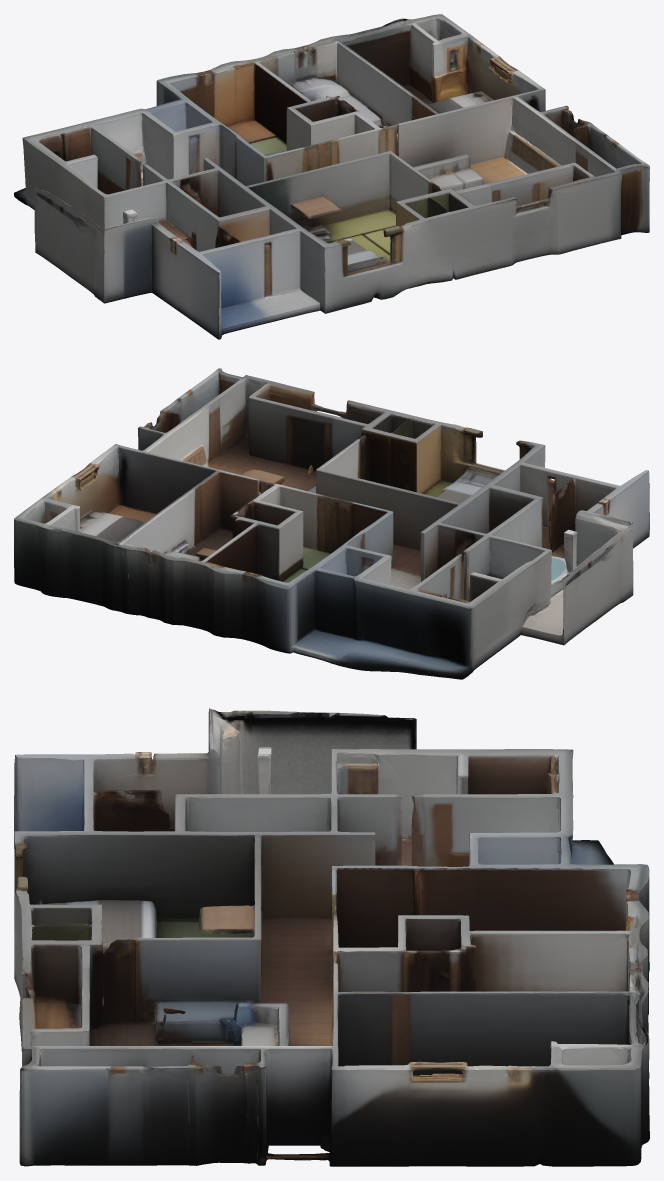
3 views of the same model, one above another, from view 1: azimuth 30°, elevation 25°; view 2: azimuth 150°, elevation 25°; view 3: azimuth 270°, elevation 25° (orthographic). The views are drawn at different scales.
Parts seen in each view (by area): view 1: world; view 2: world; view 3: world.
Part boxes in pixels (x1,y1,x2,y2): world: (14,14,649,339); world: (14,368,649,679); world: (14,708,649,1166).
Bounding box in the file's own units: 1 × 0.1479 × 0.7691.
1 material, 1 textured.
